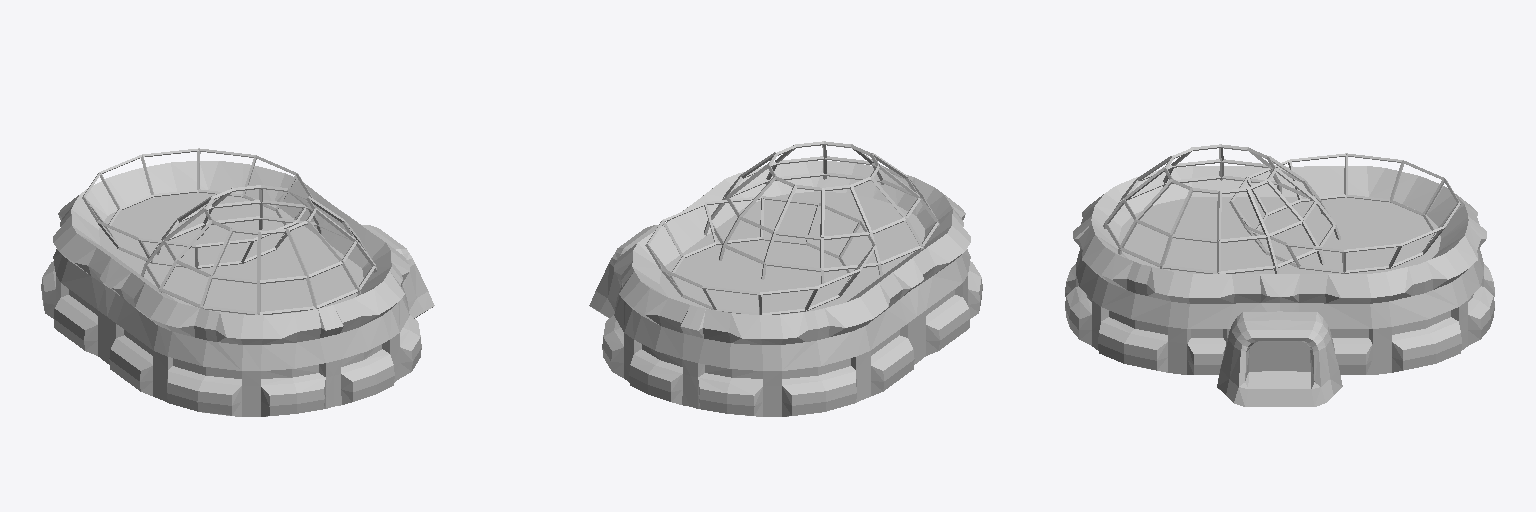
Rendered from bld-08-03-Constr-levels_obj.obj.
The picture shows the model from 3 angles: view 1: azimuth 30°, elevation 25°; view 2: azimuth 150°, elevation 25°; view 3: azimuth 270°, elevation 25°; orthographic projection.
Parts seen in each view (by area): view 1: bld-08-03; view 2: bld-08-03; view 3: bld-08-03.
Boxes of the visible parts, <box> form: bld-08-03: <box>41,148,434,416</box>; bld-08-03: <box>589,141,982,416</box>; bld-08-03: <box>1065,144,1494,406</box>.
Size of the model in its own units: 10.5 by 4.8 by 12.28.